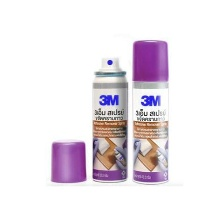aerosol_cans: (128, 36, 173, 185), (88, 52, 131, 184)
